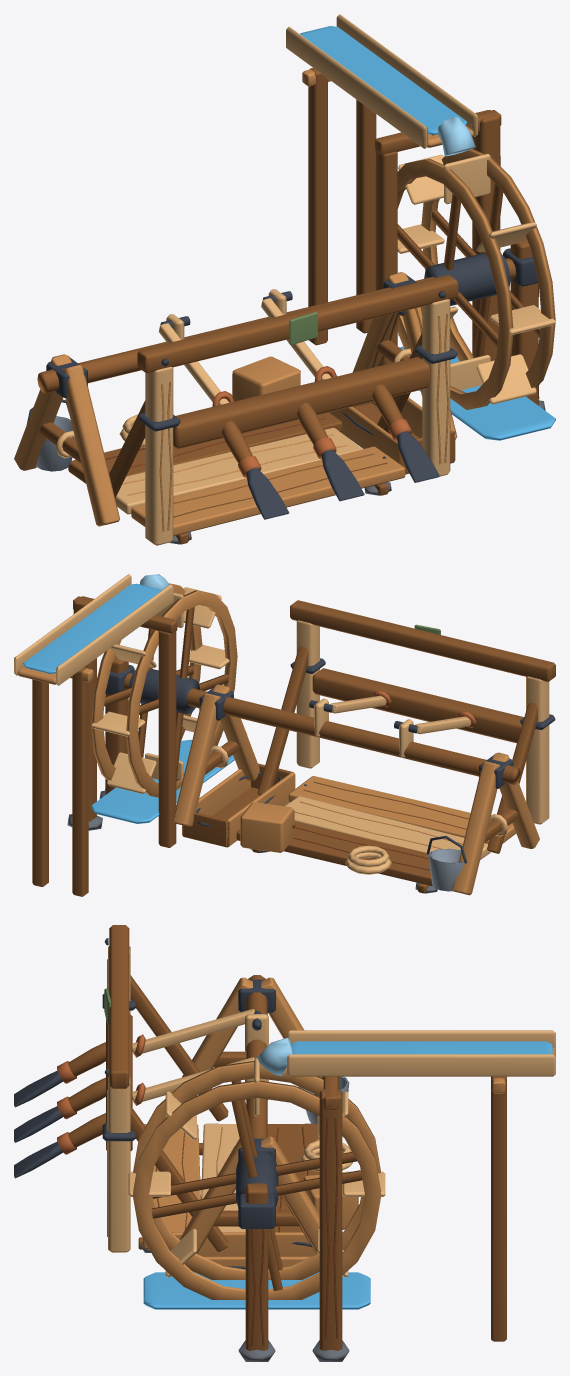
Rendered from ChiselMill_T1.fbx.
3 renders of one model, top to bottom at view 1: azimuth 30°, elevation 25°; view 2: azimuth 150°, elevation 25°; view 3: azimuth 270°, elevation 25°, orthographic. The views are drawn at different scales.
Visible parts, largest first — view 1: ChiselMillT1Frame, ChiselMillT1Wheel, ChiselMillT1Flume, ChiselMillT1Deck, ChiselMillT1Hammer, ChiselMillT1Water, ChiselMillT1Chisels, ChiselMillT1Junk, ChiselMillT1Axle, ChiselMillT1Tub; view 2: ChiselMillT1Frame, ChiselMillT1Flume, ChiselMillT1Wheel, ChiselMillT1Deck, ChiselMillT1Hammer, ChiselMillT1Axle, ChiselMillT1Water, ChiselMillT1Junk, ChiselMillT1Tub; view 3: ChiselMillT1Frame, ChiselMillT1Wheel, ChiselMillT1Flume, ChiselMillT1Water, ChiselMillT1Deck, ChiselMillT1Chisels, ChiselMillT1Hammer, ChiselMillT1Tub, ChiselMillT1Axle, ChiselMillT1Junk.
Boxes of the visible parts, x1,y1,x2,y2 form: ChiselMillT1Frame: (14, 110, 545, 545); ChiselMillT1Wheel: (397, 149, 555, 409); ChiselMillT1Flume: (286, 14, 501, 365); ChiselMillT1Deck: (68, 412, 405, 544); ChiselMillT1Hammer: (159, 298, 430, 449); ChiselMillT1Water: (300, 26, 555, 440); ChiselMillT1Chisels: (222, 384, 439, 519); ChiselMillT1Junk: (26, 356, 300, 471); ChiselMillT1Axle: (37, 258, 516, 393); ChiselMillT1Tub: (329, 397, 455, 474); ChiselMillT1Frame: (67, 596, 555, 895); ChiselMillT1Flume: (14, 574, 177, 896); ChiselMillT1Wheel: (91, 583, 237, 797); ChiselMillT1Deck: (236, 776, 516, 893); ChiselMillT1Hammer: (312, 668, 523, 743); ChiselMillT1Axle: (124, 673, 520, 785); ChiselMillT1Water: (23, 574, 234, 823); ChiselMillT1Junk: (240, 802, 467, 891); ChiselMillT1Tub: (182, 763, 295, 847); ChiselMillT1Frame: (102, 925, 349, 1361); ChiselMillT1Wheel: (128, 1058, 385, 1299); ChiselMillT1Flume: (287, 1030, 555, 1341); ChiselMillT1Water: (143, 1037, 552, 1309); ChiselMillT1Deck: (138, 1123, 319, 1252); ChiselMillT1Chisels: (14, 1042, 105, 1178); ChiselMillT1Hammer: (106, 1009, 254, 1150); ChiselMillT1Tub: (172, 1232, 319, 1272); ChiselMillT1Axle: (245, 975, 268, 1138); ChiselMillT1Junk: (299, 1076, 358, 1229).
Bounding box in the file's own units: 320 × 182 × 310.
